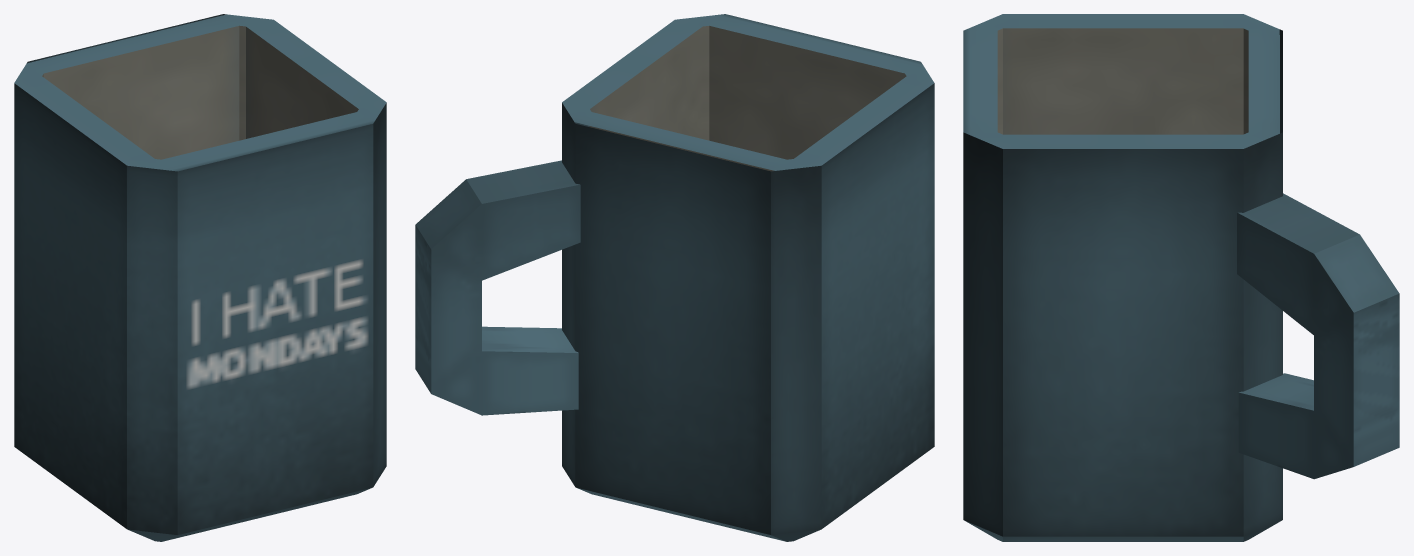
Rendered from MugBlue.fbx.
The picture shows the model from 3 angles, left to right: view 1: azimuth 30°, elevation 25°; view 2: azimuth 150°, elevation 25°; view 3: azimuth 270°, elevation 25°; orthographic projection. The views are drawn at different scales.
Visible parts, largest first — view 1: MugBlue; view 2: MugBlue; view 3: MugBlue.
Part boxes in pixels (bbox=[...]): MugBlue: bbox=[14, 14, 386, 541]; MugBlue: bbox=[415, 14, 934, 541]; MugBlue: bbox=[963, 14, 1399, 541].
Size of the model in its own units: 0.0881 by 0.0908 by 0.0881.
Materials: 1 (1 with a texture image).
